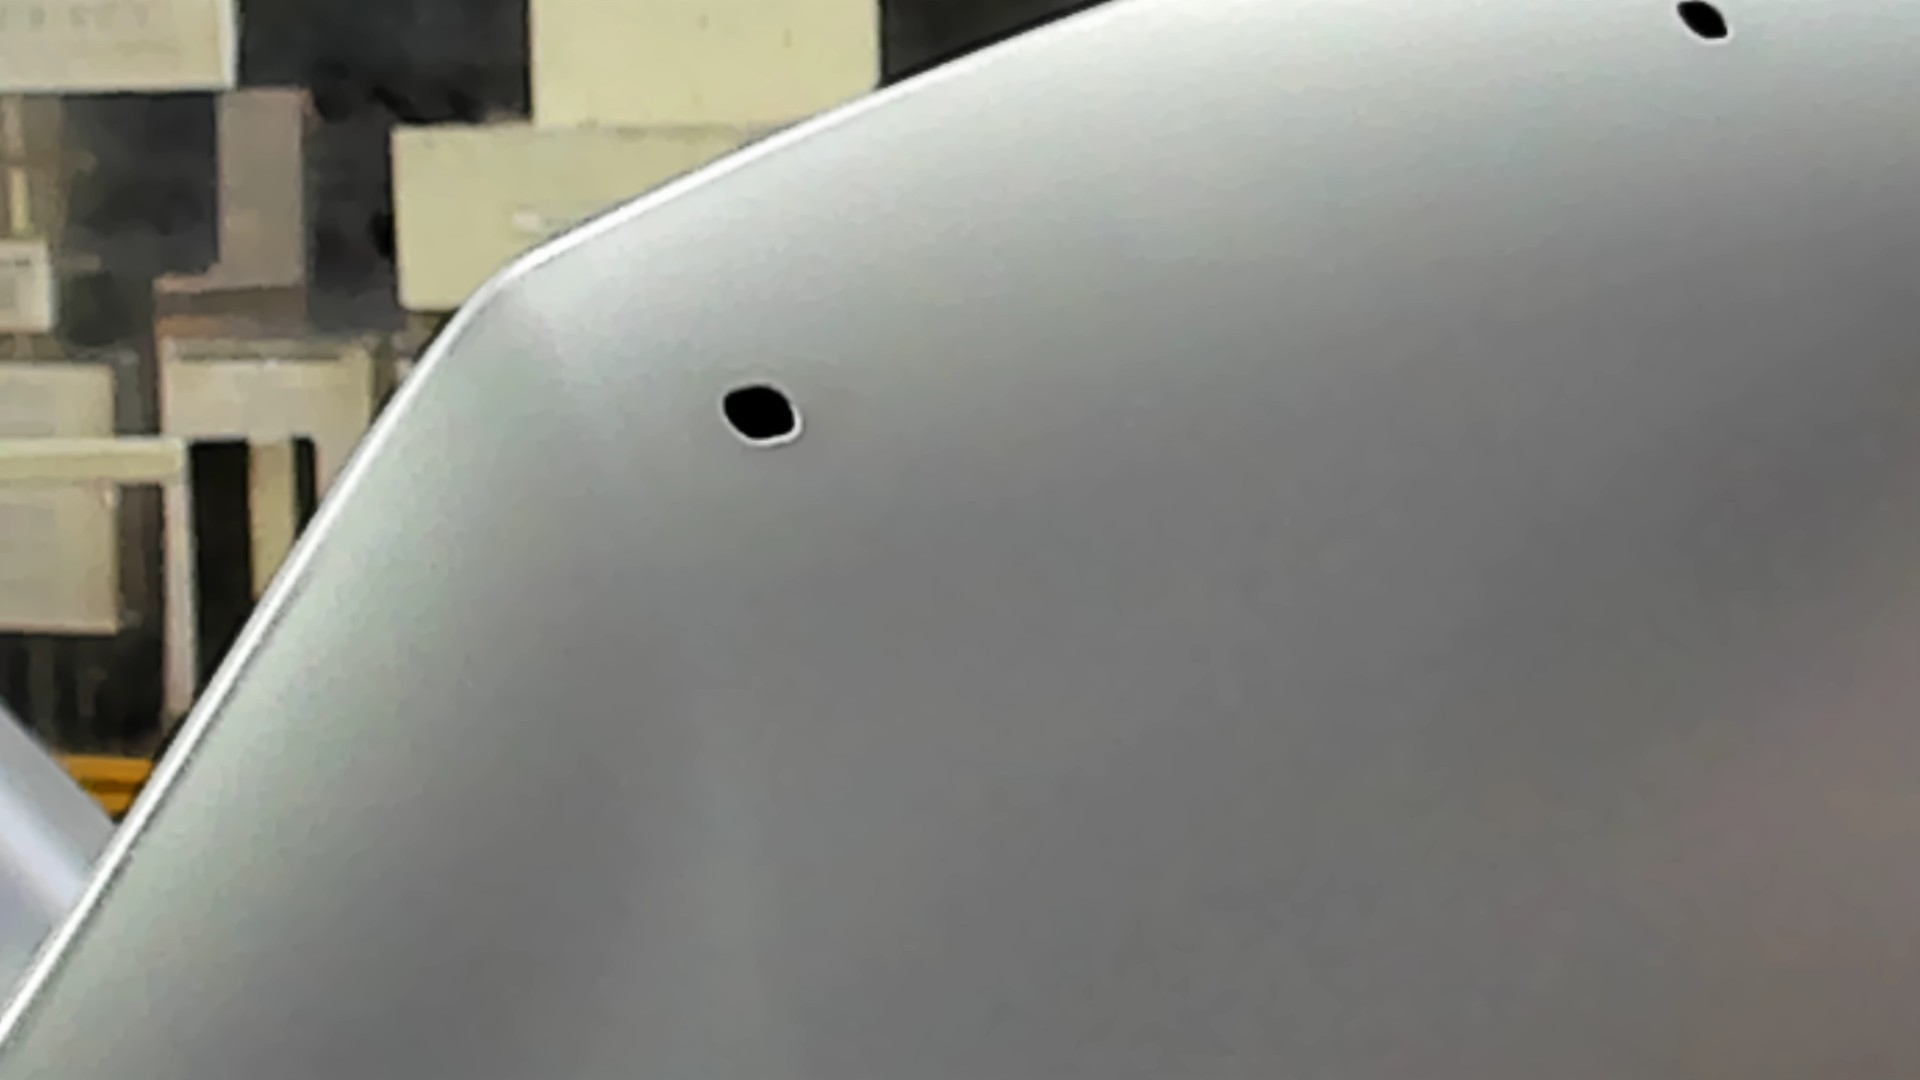amorfo: (709, 378, 804, 448), (1673, 1, 1735, 51)
